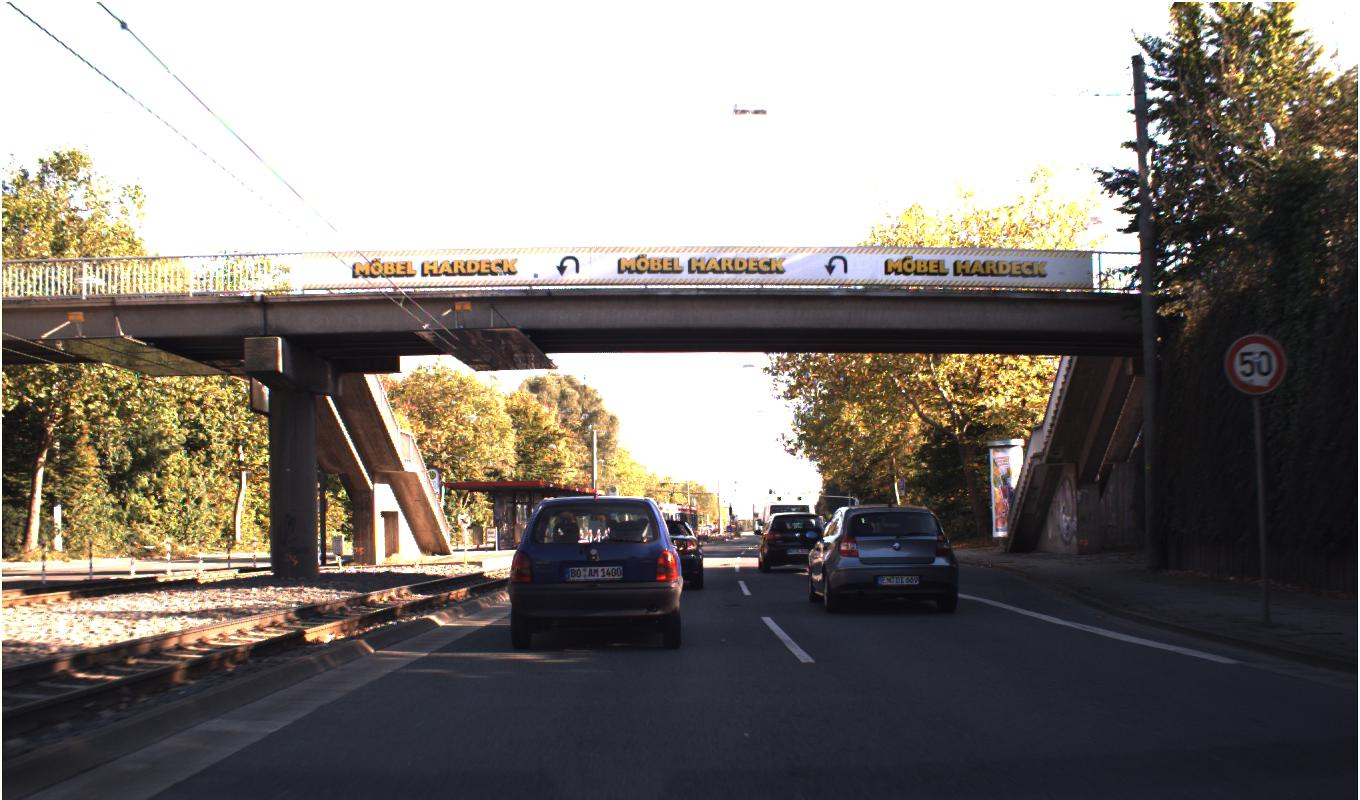prohibitory: (1224, 333, 1285, 394)
